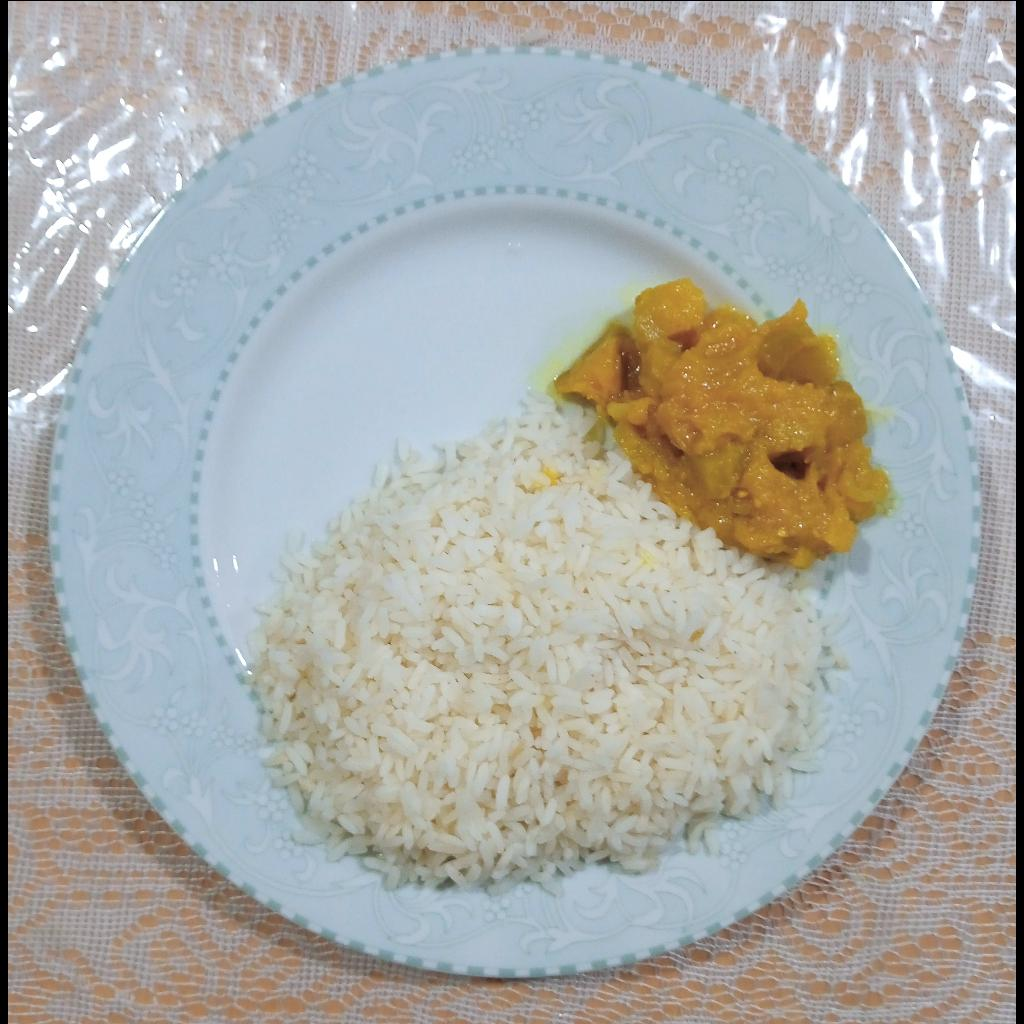kumra-vaji: (557, 273, 894, 571)
rice: (240, 391, 843, 898)
